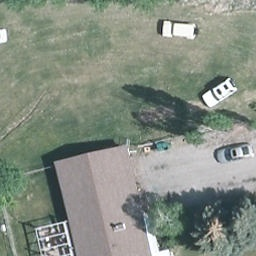car: (198, 80, 241, 109), (159, 21, 198, 39), (0, 31, 11, 49)
